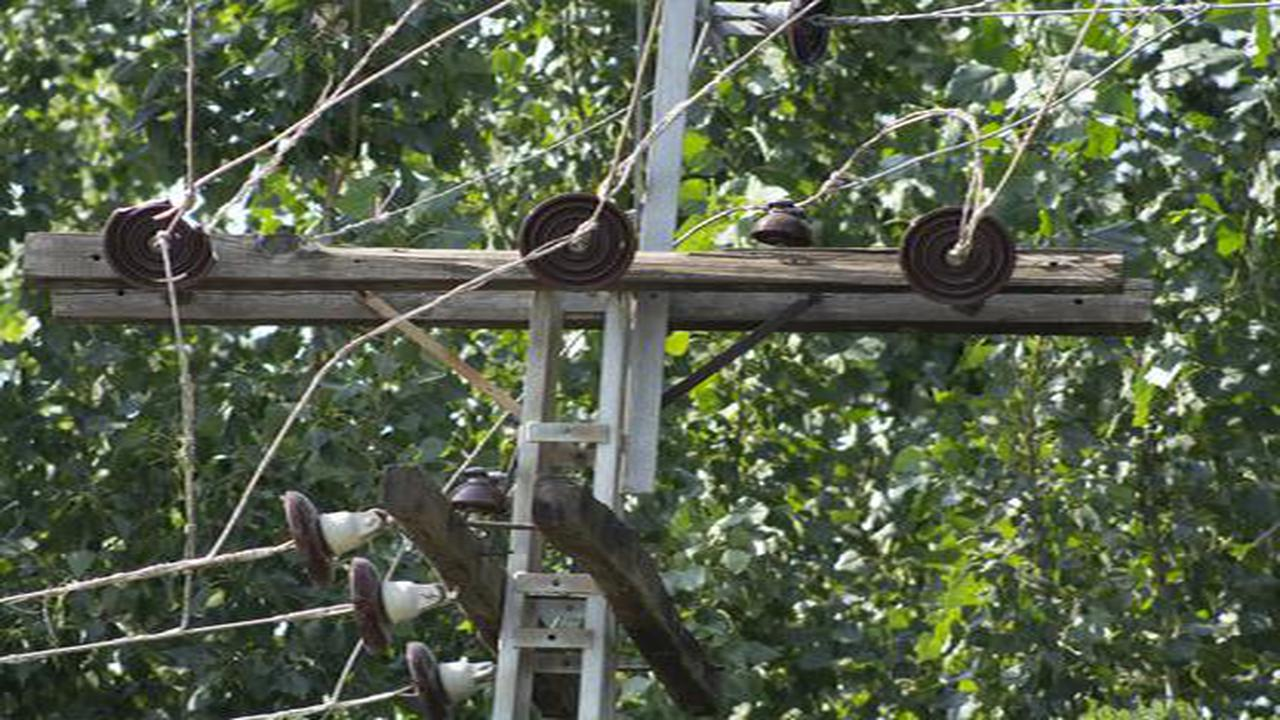defect_disc: (97, 194, 223, 293)
insulator_disc: (901, 205, 1021, 309), (520, 190, 640, 291), (274, 485, 399, 557), (335, 565, 459, 635), (353, 647, 499, 700)
insulator_pin: (444, 458, 513, 522)
